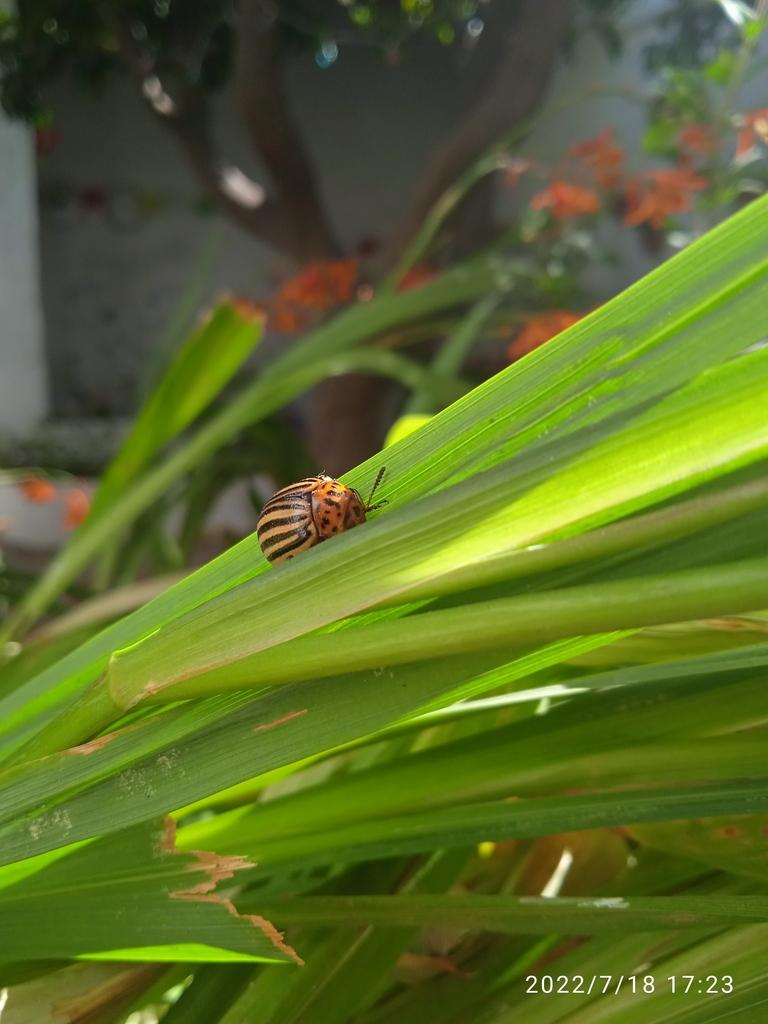potato_beetle: (224, 442, 424, 582)
